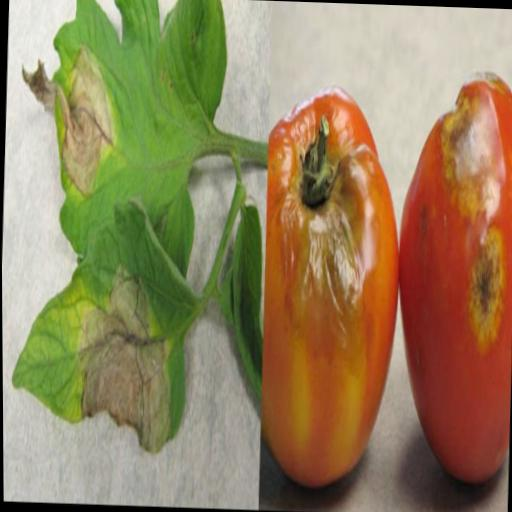Late Blight: (16, 0, 228, 256), (6, 194, 192, 454)
